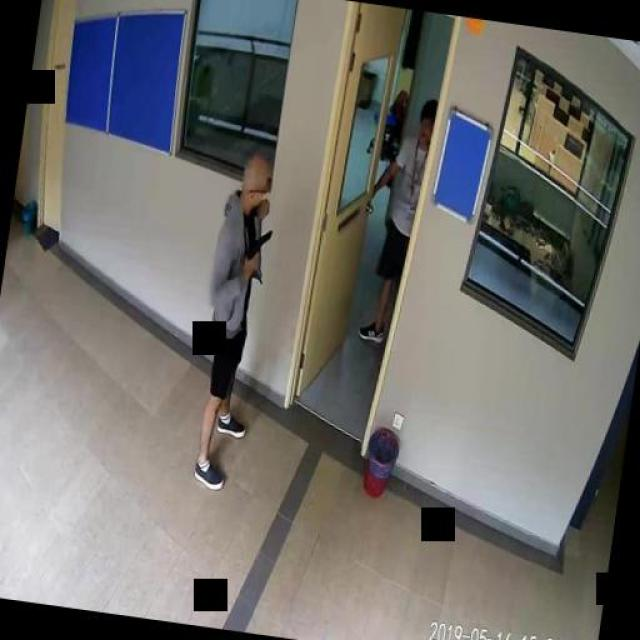gun: (244, 225, 271, 270)
